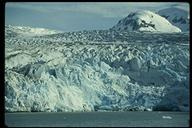ice: (13, 42, 182, 101)
sky: (17, 4, 116, 22)
snow: (143, 15, 174, 34)
water: (8, 112, 188, 126)
